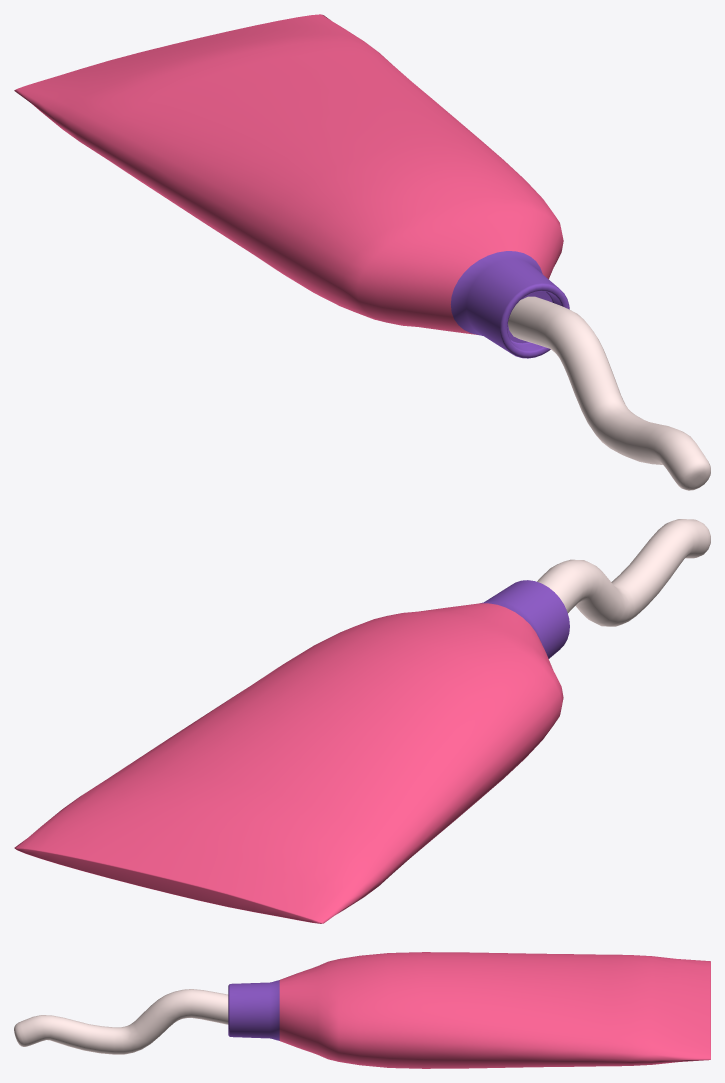
File: Public_20_Toothpaste_2.glb
3 renders of one model, top to bottom at view 1: azimuth 30°, elevation 25°; view 2: azimuth 150°, elevation 25°; view 3: azimuth 270°, elevation 25°, orthographic. The views are drawn at different scales.
Visible parts, largest first — view 1: Public_20_Toothpaste_2; view 2: Public_20_Toothpaste_2; view 3: Public_20_Toothpaste_2.
Part boxes in pixels (x1,y1,x2,y2): Public_20_Toothpaste_2: (14, 14, 710, 490); Public_20_Toothpaste_2: (14, 519, 710, 923); Public_20_Toothpaste_2: (14, 952, 710, 1068).
Size of the model in its own units: 1.74 by 0.6994 by 5.16.
Materials: 1 (1 with a texture image).
